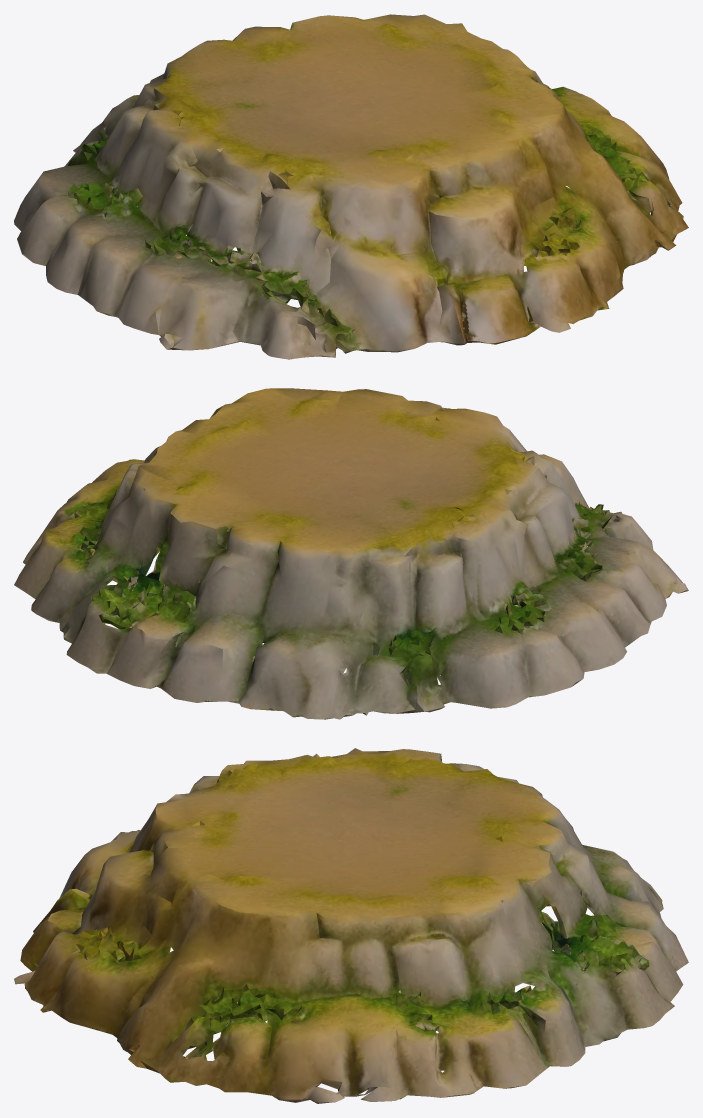
Rendered from mill-foot.glb.
3 renders of one model, top to bottom at view 1: azimuth 30°, elevation 25°; view 2: azimuth 150°, elevation 25°; view 3: azimuth 270°, elevation 25°, orthographic. The views are drawn at different scales.
Visible parts, largest first — view 1: mill-foot.raw; view 2: mill-foot.raw; view 3: mill-foot.raw.
Part boxes in pixels (x1,y1,x2,y2): mill-foot.raw: (14,14,688,359); mill-foot.raw: (14,388,688,719); mill-foot.raw: (14,748,688,1103).
Size of the model in its own units: 46.03 by 9.88 by 45.
1 material, 1 textured.
